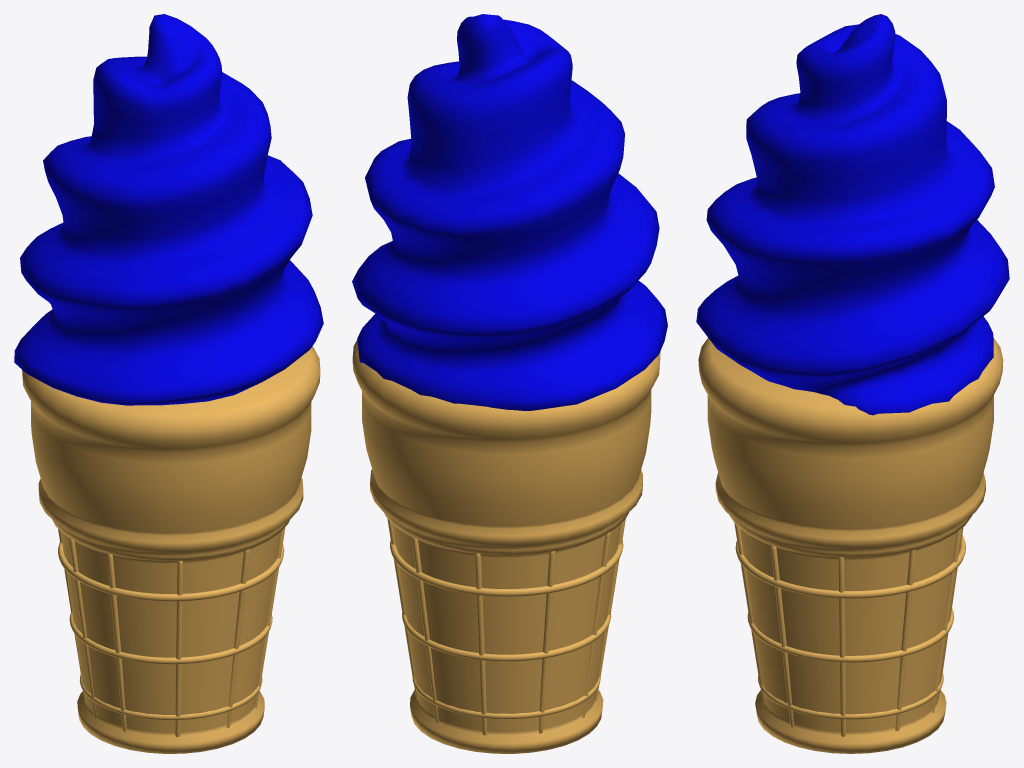
The model's file is lody krecone gotowe.fbx.
3 renders of one model, left to right at view 1: azimuth 30°, elevation 25°; view 2: azimuth 150°, elevation 25°; view 3: azimuth 270°, elevation 25°, orthographic. The views are drawn at different scales.
Visible parts, largest first — view 1: Cube; view 2: Cube; view 3: Cube.
Part boxes in pixels (left/top/right/bottom): Cube: left=14, top=14, right=323, bottom=753; Cube: left=352, top=14, right=667, bottom=753; Cube: left=696, top=14, right=1009, bottom=753.
Size of the model in its own units: 339 by 821 by 333.
